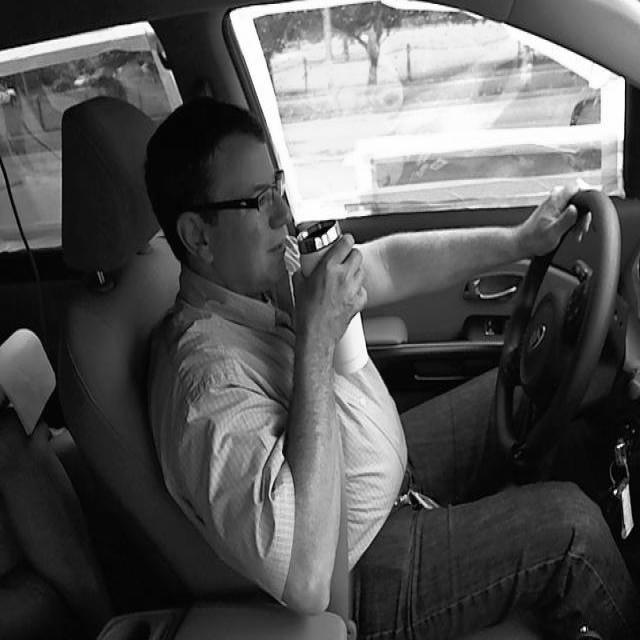Drinking: (302, 217, 369, 375)
